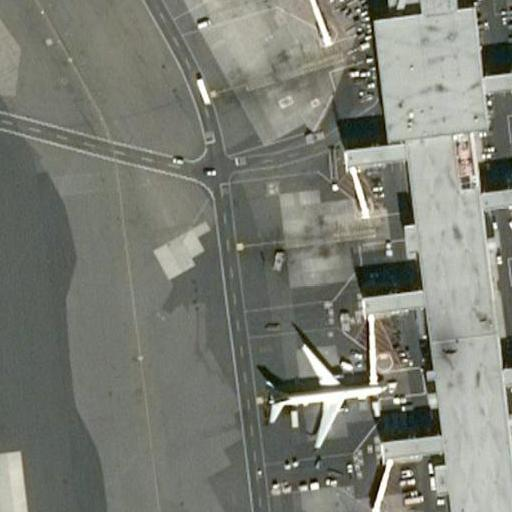Aircraft: (260, 332, 391, 449)
